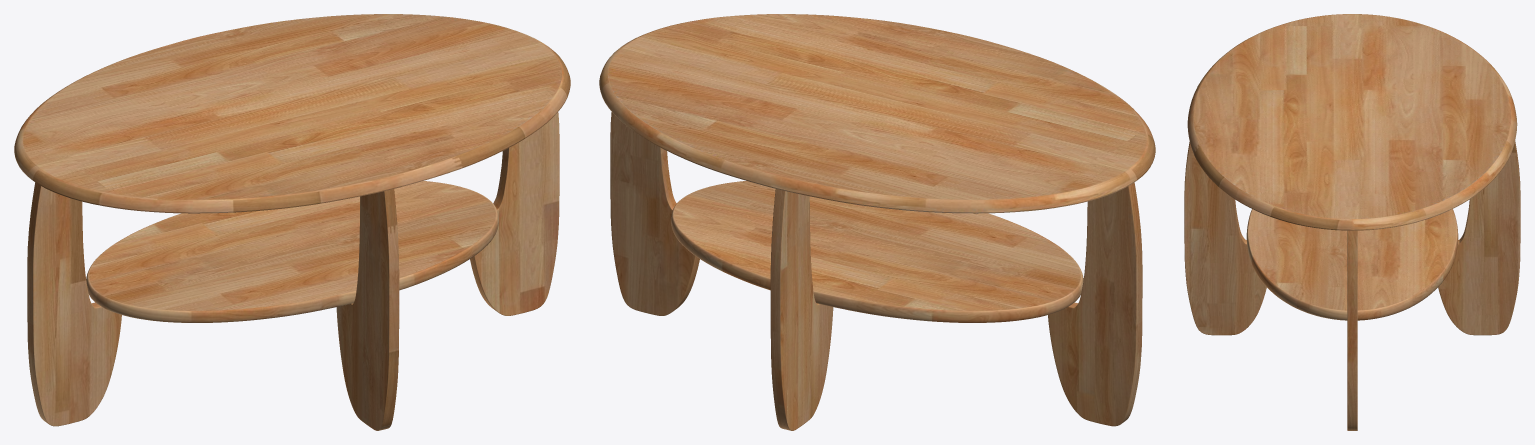
Rendered from abo_B07SG5G5JJ.glb.
3 renders of one model, left to right at view 1: azimuth 30°, elevation 25°; view 2: azimuth 150°, elevation 25°; view 3: azimuth 270°, elevation 25°, orthographic. The views are drawn at different scales.
Visible parts, largest first — view 1: consolidatedNode; view 2: consolidatedNode; view 3: consolidatedNode.
Boxes of the visible parts, x1=… form: consolidatedNode: x1=14, y1=14, x2=570, y2=430; consolidatedNode: x1=599, y1=14, x2=1155, y2=430; consolidatedNode: x1=1184, y1=14, x2=1520, y2=430.
Size of the model in its own units: 1.04 by 0.49 by 0.69.
1 material, 1 textured.
